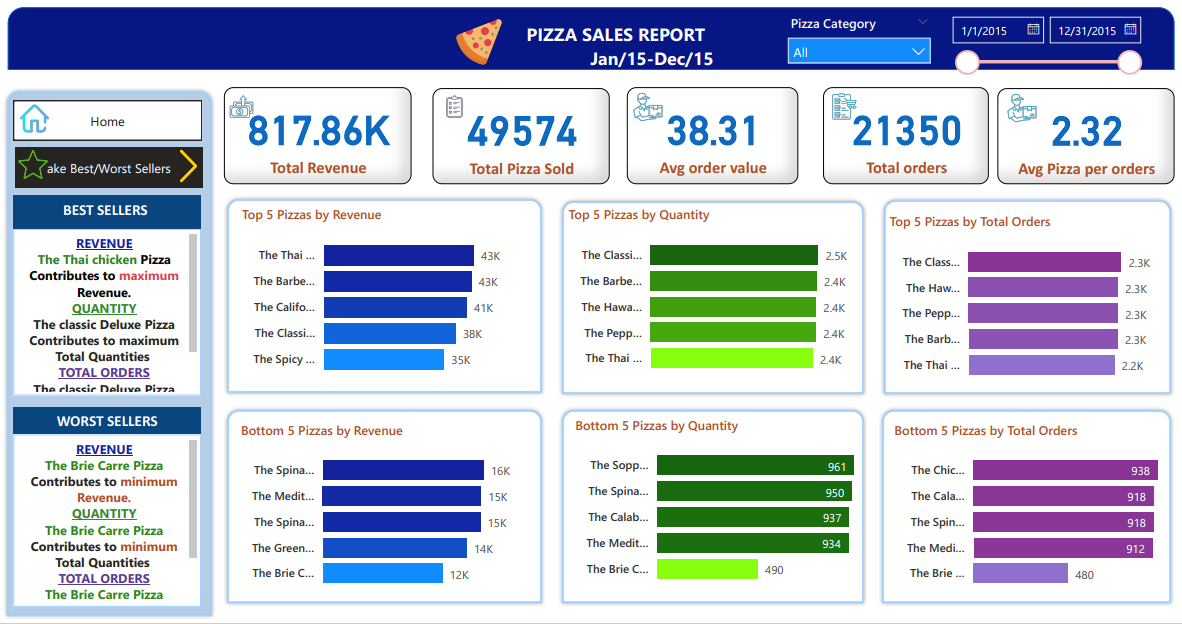

The dashboard page shown, as its layout file describes it:
{"tool":"powerbi","page":{"name":"ake Best/Worst Sellers","canvas":[1280,720],"ordinal":1},"visuals":[{"type":"shape","box":[0,140.4,221.6,557.4],"z":0},{"type":"textbox","box":[10.1,252.6,197.1,35.4],"z":1000},{"type":"card","fields":{"Values":["pizza_sales_excel_file.Total Revenue"]},"box":[231.2,139,196.8,101.8],"z":2000},{"type":"card","fields":{"Values":["pizza_sales_excel_file.Total Pizza Sold"]},"box":[450.1,140.4,185.8,100.5],"z":3000},{"type":"card","fields":{"Values":["pizza_sales_excel_file.Total orders"]},"box":[860.2,139,173.4,101.8],"z":4000},{"type":"card","fields":{"Values":["pizza_sales_excel_file.Avg Pizza per orders"]},"box":[1043.3,140.4,185.8,100.5],"z":5000},{"type":"card","fields":{"Values":["pizza_sales_excel_file.Avg order value"]},"box":[653.8,139,180.3,101.8],"z":6000},{"type":"shape","box":[3.8,55,1225,66.2],"z":7000},{"type":"textbox","box":[487.2,64.7,311.1,48.2],"z":8000},{"type":"textbox","box":[602.8,90.8,155.5,38.5],"z":9000},{"type":"image","box":[459.7,61.9,77.1,59.2],"z":10000},{"type":"shape","box":[231.2,253.2,337.2,210.6],"z":11000},{"type":"textbox","box":[10.1,288,197.1,175.2],"z":12000},{"type":"textbox","box":[10.1,474.9,197.1,30.3],"z":13000},{"type":"textbox","box":[10.1,503.6,197.1,181.9],"z":14000},{"type":"slicer","fields":{"Values":["pizza_sales_excel_file.pizza_category"]},"box":[813.4,57.8,169.3,60.6],"z":15000},{"type":"slicer","fields":{"Values":["pizza_sales_excel_file.order_date"]},"box":[982.7,55.1,220.2,78.5],"z":16000},{"type":"shape","box":[582.2,254.6,323.4,210.6],"z":17000},{"type":"shape","box":[919.6,254.3,309.9,210.5],"z":18000},{"type":"shape","box":[231.2,474.8,337.2,210.6],"z":19000},{"type":"shape","box":[582.2,474.8,323.4,210.6],"z":20000},{"type":"shape","box":[919.4,474.8,309.7,210.6],"z":21000},{"type":"barChart","title":"Top 5 Pizzas by Revenue","fields":{"Category":["pizza_sales_excel_file.pizza_name"],"Y":["pizza_sales_excel_file.Total Revenue"]},"box":[245.2,263.7,312.4,188.1],"z":22000},{"type":"barChart","title":"Bottom 5 Pizzas by Revenue","fields":{"Category":["pizza_sales_excel_file.pizza_name"],"Y":["pizza_sales_excel_file.Total Revenue"]},"box":[244.2,490.1,311.6,186.9],"z":23000},{"type":"barChart","title":"Top 5 Pizzas by Quantity","fields":{"Category":["pizza_sales_excel_file.pizza_name"],"Y":["pizza_sales_excel_file.Total Pizza Sold"]},"box":[587.8,264.4,311.6,186.9],"z":24000},{"type":"barChart","title":"Bottom 5 Pizzas by Quantity","fields":{"Category":["pizza_sales_excel_file.pizza_name"],"Y":["pizza_sales_excel_file.Total Pizza Sold"]},"box":[594.5,485.1,311.6,186.9],"z":25000},{"type":"barChart","title":"Top 5 Pizzas by Total Orders","fields":{"Category":["pizza_sales_excel_file.pizza_name"],"Y":["pizza_sales_excel_file.Total orders"]},"box":[924.6,271.2,299.8,186.9],"z":26000},{"type":"barChart","title":"Bottom 5 Pizzas by Total Orders","fields":{"Category":["pizza_sales_excel_file.pizza_name"],"Y":["pizza_sales_excel_file.Total orders"]},"box":[929.7,490.1,299.8,186.9],"z":27000},{"type":"pageNavigator","box":[11.8,202.1,197.1,42.1],"z":28000},{"type":"pageNavigator","box":[10,152.5,197.5,42.5],"z":29000},{"type":"image","box":[165.1,200.4,57.3,43.8],"z":30000},{"type":"image","box":[8.4,151.6,47.2,40.4],"z":31000},{"type":"image","box":[3.4,200.4,53.9,40.4],"z":32000},{"type":"image","box":[230.7,134.7,37.1,48.8],"z":32001},{"type":"image","box":[451.2,142.5,43.8,33.8],"z":32002},{"type":"image","box":[634.9,139.8,82.5,40.4],"z":32003},{"type":"image","box":[1027.5,141.2,82.5,40],"z":32004},{"type":"image","box":[864,128,37.1,62.3],"z":32005}]}

Visuals, with their boxes on the page's 1280x720 design canvas (x1, y1, x2, y2). These are canvas units, not pixel positions in the 1182x624 screenshot, which may show the page scaled, cropped or inside an application window:
shape: detection(0, 140, 222, 698)
textbox: detection(10, 253, 207, 288)
card - pizza_sales_excel_file.Total Revenue: detection(231, 139, 428, 241)
card - pizza_sales_excel_file.Total Pizza Sold: detection(450, 140, 636, 241)
card - pizza_sales_excel_file.Total orders: detection(860, 139, 1034, 241)
card - pizza_sales_excel_file.Avg Pizza per orders: detection(1043, 140, 1229, 241)
card - pizza_sales_excel_file.Avg order value: detection(654, 139, 834, 241)
shape: detection(4, 55, 1229, 121)
textbox: detection(487, 65, 798, 113)
textbox: detection(603, 91, 758, 129)
image: detection(460, 62, 537, 121)
shape: detection(231, 253, 568, 464)
textbox: detection(10, 288, 207, 463)
textbox: detection(10, 475, 207, 505)
textbox: detection(10, 504, 207, 686)
slicer - pizza_sales_excel_file.pizza_category: detection(813, 58, 983, 118)
slicer - pizza_sales_excel_file.order_date: detection(983, 55, 1203, 134)
shape: detection(582, 255, 906, 465)
shape: detection(920, 254, 1230, 465)
shape: detection(231, 475, 568, 685)
shape: detection(582, 475, 906, 685)
shape: detection(919, 475, 1229, 685)
"Top 5 Pizzas by Revenue" barChart: detection(245, 264, 558, 452)
"Bottom 5 Pizzas by Revenue" barChart: detection(244, 490, 556, 677)
"Top 5 Pizzas by Quantity" barChart: detection(588, 264, 899, 451)
"Bottom 5 Pizzas by Quantity" barChart: detection(594, 485, 906, 672)
"Top 5 Pizzas by Total Orders" barChart: detection(925, 271, 1224, 458)
"Bottom 5 Pizzas by Total Orders" barChart: detection(930, 490, 1230, 677)
pageNavigator: detection(12, 202, 209, 244)
pageNavigator: detection(10, 152, 208, 195)
image: detection(165, 200, 222, 244)
image: detection(8, 152, 56, 192)
image: detection(3, 200, 57, 241)
image: detection(231, 135, 268, 184)
image: detection(451, 142, 495, 176)
image: detection(635, 140, 717, 180)
image: detection(1028, 141, 1110, 181)
image: detection(864, 128, 901, 190)
